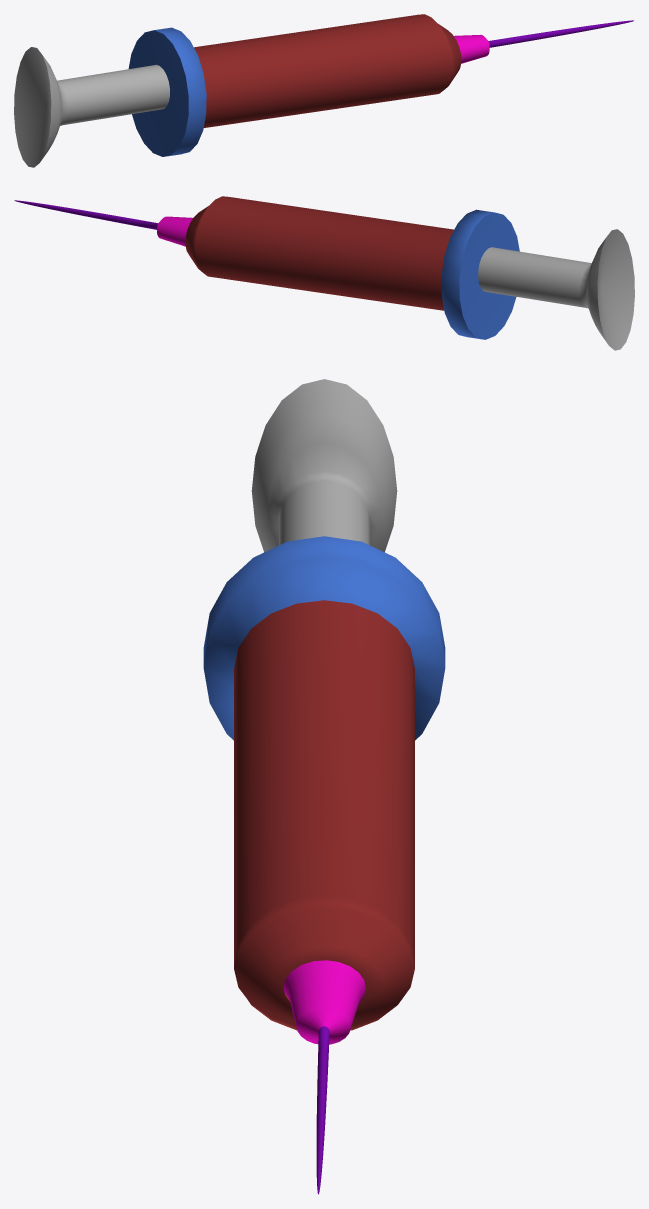
The model's file is Spruta.fbx.
The picture shows the model from 3 angles, top to bottom: view 1: azimuth 30°, elevation 25°; view 2: azimuth 150°, elevation 25°; view 3: azimuth 270°, elevation 25°; orthographic projection. The views are drawn at different scales.
Visible parts, largest first — view 1: Spruta; view 2: Spruta; view 3: Spruta.
Boxes of the visible parts, x1,y1,x2,y2 form: Spruta: (14, 14, 633, 167); Spruta: (14, 196, 634, 350); Spruta: (203, 379, 445, 1194).
Bounding box in the file's own units: 7.78 × 1.69 × 1.34.
